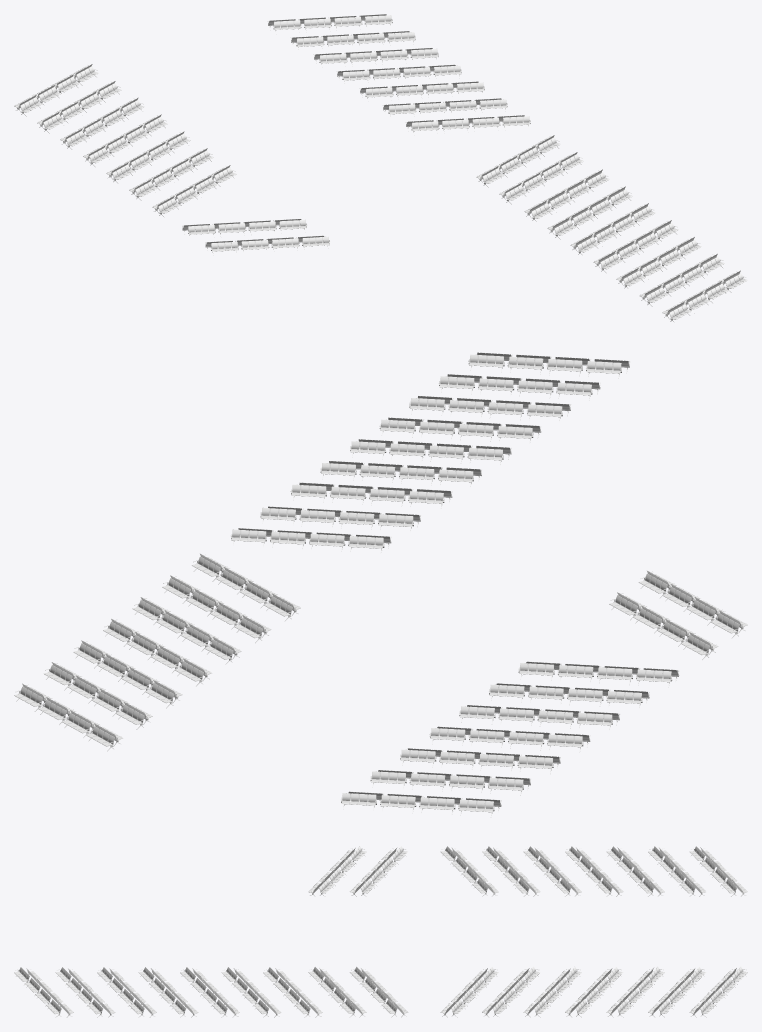
Rendered from AirportConcourse_Seating_Near.fbx.
3 renders of one model, top to bottom at view 1: azimuth 30°, elevation 25°; view 2: azimuth 150°, elevation 25°; view 3: azimuth 270°, elevation 25°, orthographic. The views are drawn at different scales.
Visible parts, largest first — view 1: TerminalSeating_Front, TerminalSeating_Rear; view 2: TerminalSeating_Front, TerminalSeating_Rear; view 3: TerminalSeating_Front, TerminalSeating_Rear.
Part boxes in pixels (x1=…): TerminalSeating_Front: x1=14, y1=14, x2=583, y2=255; TerminalSeating_Rear: x1=524, y1=169, x2=747, y2=323; TerminalSeating_Front: x1=14, y1=506, x2=747, y2=817; TerminalSeating_Rear: x1=290, y1=352, x2=630, y2=508; TerminalSeating_Front: x1=308, y1=846, x2=747, y2=1017; TerminalSeating_Rear: x1=14, y1=967, x2=322, y2=1017.
Bounding box in the file's own units: 33.65 × 63.7 × 0.8344.
